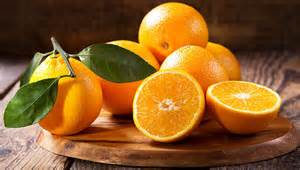orange: (24, 48, 105, 140), (137, 1, 209, 51)
